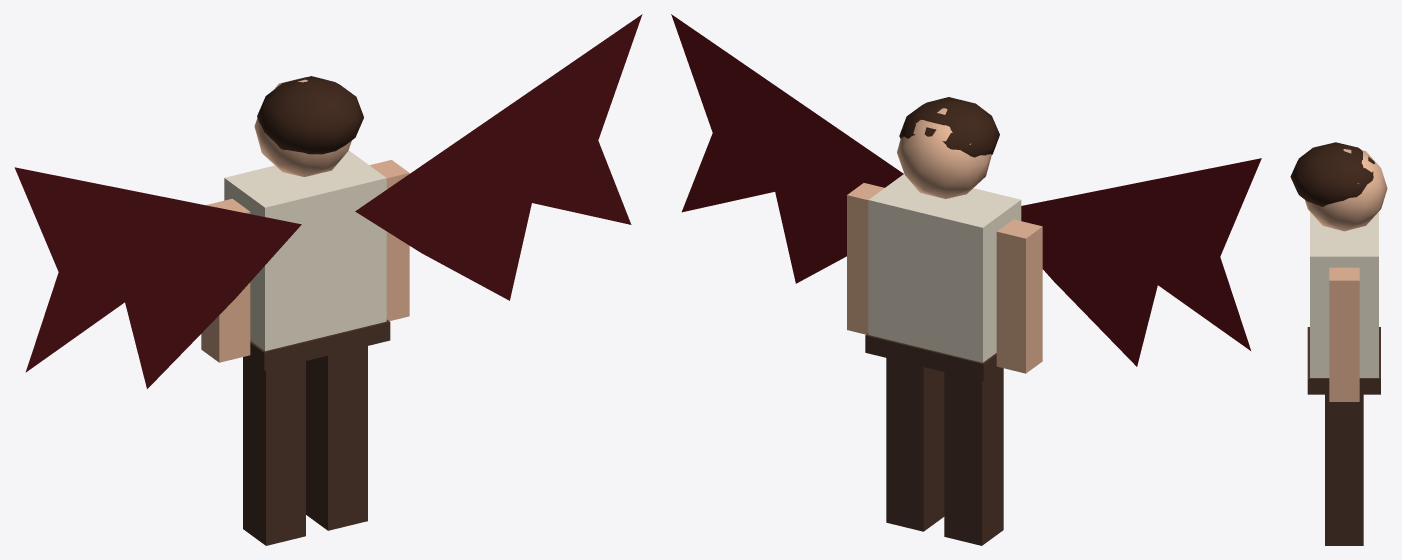
The model's file is runner-with-batwings.glb.
3 views of the same model, side by side, from view 1: azimuth 30°, elevation 25°; view 2: azimuth 150°, elevation 25°; view 3: azimuth 270°, elevation 25° (orthographic). The views are drawn at different scales.
Visible parts, largest first — view 1: Runner with Bat Wings; view 2: Runner with Bat Wings; view 3: Runner with Bat Wings.
Boxes of the visible parts, bbox=[...] form: Runner with Bat Wings: bbox=[14, 14, 642, 545]; Runner with Bat Wings: bbox=[671, 14, 1261, 545]; Runner with Bat Wings: bbox=[1290, 142, 1387, 545].
Size of the model in its own units: 2.84 by 1.95 by 0.45.
